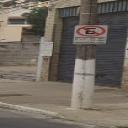NoEstacionar: (71, 24, 110, 40)
